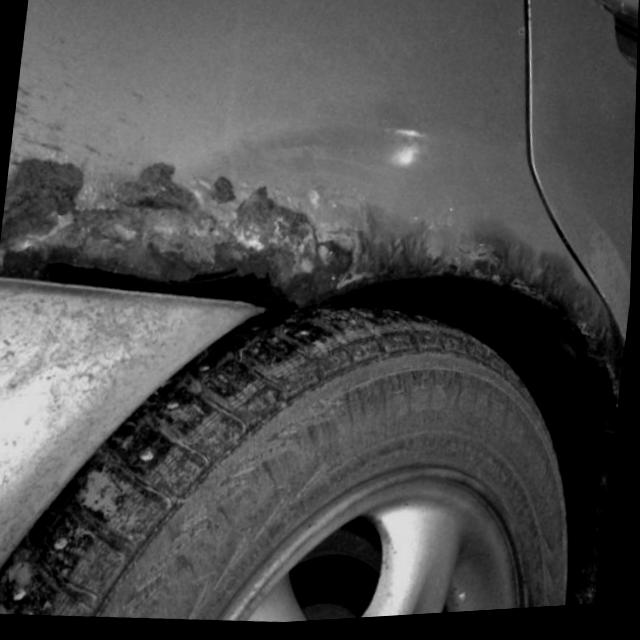Rust: (0, 150, 624, 605)
